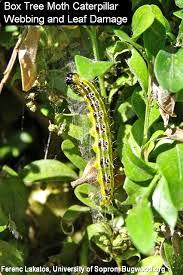Caterpillar: (60, 65, 120, 213)
